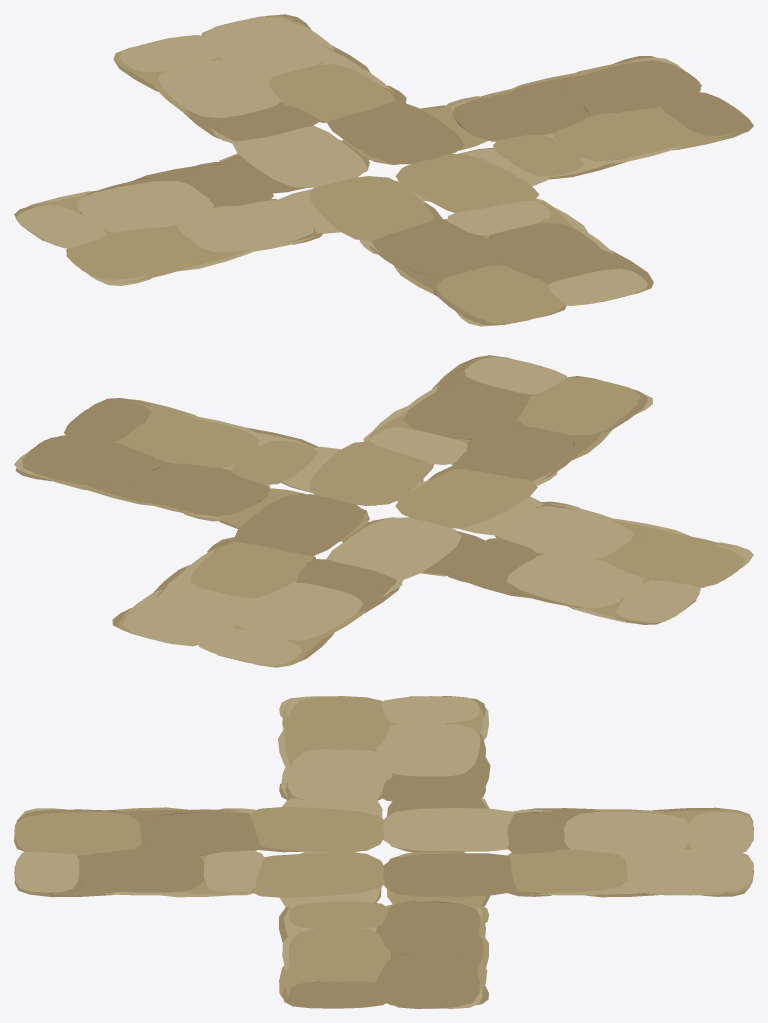
The model's file is GASAND.glb.
3 views of the same model, one above another, from view 1: azimuth 30°, elevation 25°; view 2: azimuth 150°, elevation 25°; view 3: azimuth 270°, elevation 25° (orthographic). The views are drawn at different scales.
Visible parts, largest first — view 1: Post, ArmXN, ArmXP, ArmZP, ArmZN; view 2: Post, ArmXN, ArmXP, ArmZN, ArmZP; view 3: Post, ArmXP, ArmXN, ArmZN, ArmZP.
Boxes of the visible parts, x1=… form: Post: x1=218, y1=100, x2=548, y2=240; ArmXN: x1=14, y1=161, x2=323, y2=285; ArmXP: x1=446, y1=56, x2=753, y2=179; ArmZP: x1=359, y1=198, x2=653, y2=326; ArmZN: x1=113, y1=14, x2=406, y2=143; Post: x1=219, y1=441, x2=544, y2=580; ArmXN: x1=447, y1=501, x2=753, y2=624; ArmXP: x1=14, y1=398, x2=318, y2=521; ArmZN: x1=112, y1=537, x2=402, y2=667; ArmZP: x1=363, y1=355, x2=652, y2=485; Post: x1=249, y1=796, x2=517, y2=908; ArmXP: x1=279, y1=901, x2=488, y2=1008; ArmXN: x1=278, y1=696, x2=490, y2=803; ArmZN: x1=507, y1=807, x2=753, y2=897; ArmZP: x1=14, y1=807, x2=264, y2=897.
Bounding box in the file's own units: 1.01 × 0.000322 × 1.01.
